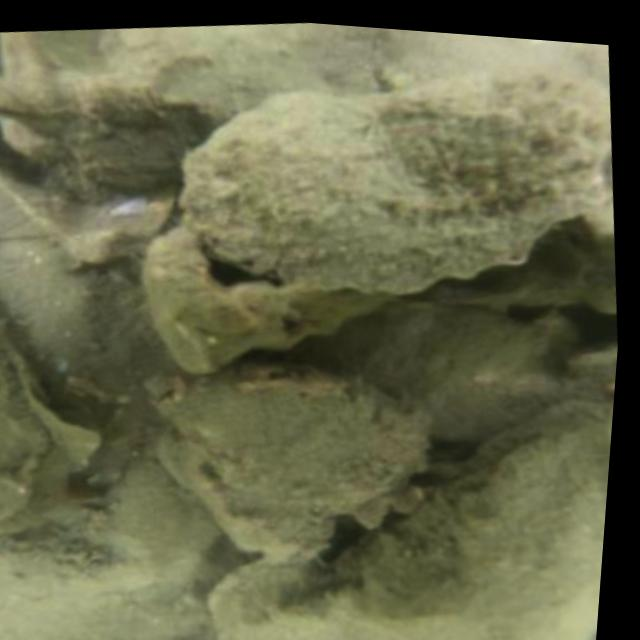Oyster-Closed: (212, 383, 615, 640)
Oyster-Indeterminate: (177, 65, 611, 294), (163, 378, 422, 565), (302, 307, 549, 439)
